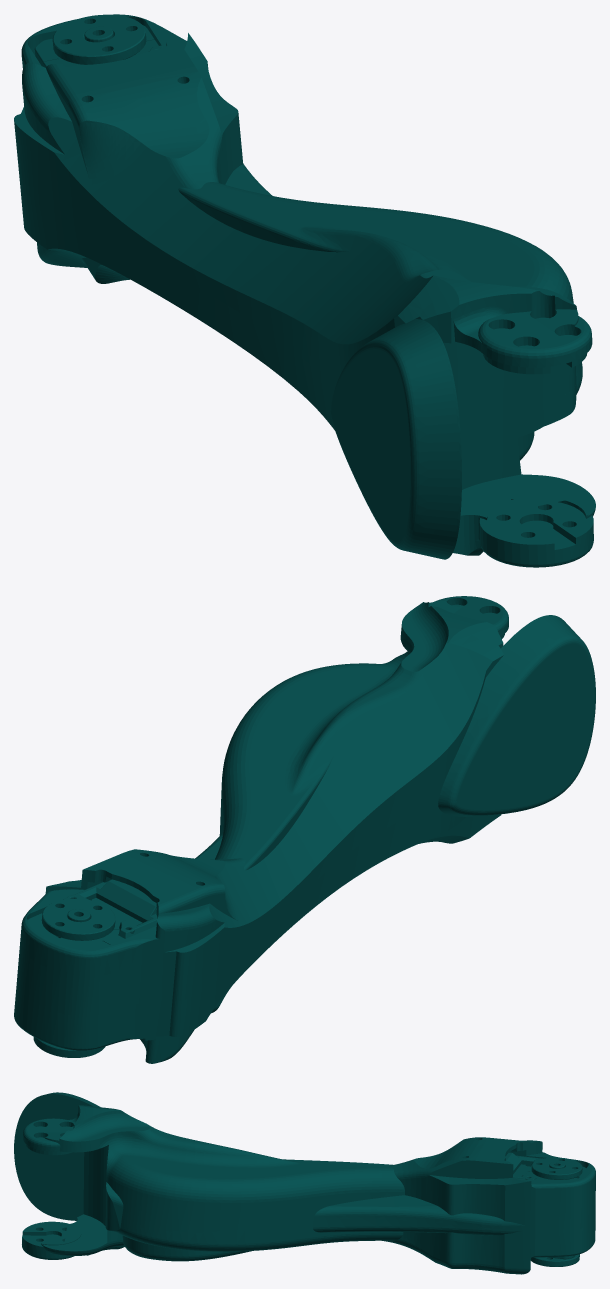
The model's file is leg_left_knee_pitch_visuals.obj.
3 renders of one model, top to bottom at view 1: azimuth 30°, elevation 25°; view 2: azimuth 150°, elevation 25°; view 3: azimuth 270°, elevation 25°, orthographic. The views are drawn at different scales.
Size of the model in its own units: 0.0688 by 0.059 by 0.2198.
